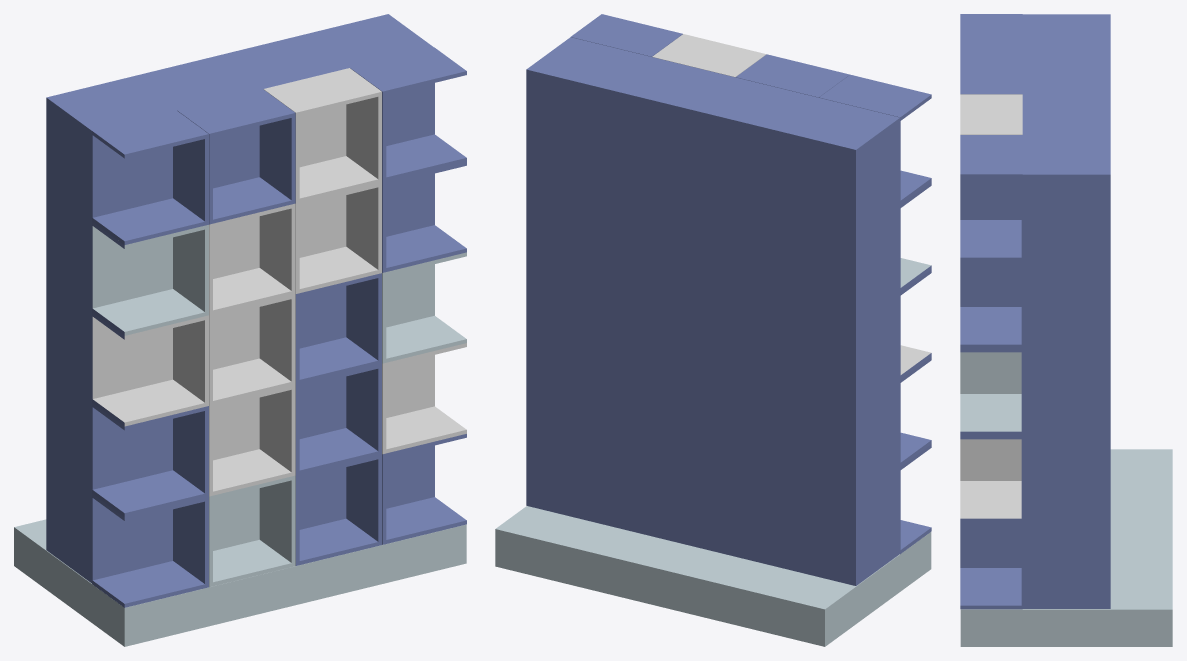
File: 入口书架2.gltf
The picture shows the model from 3 angles, left to right: view 1: azimuth 30°, elevation 25°; view 2: azimuth 150°, elevation 25°; view 3: azimuth 270°, elevation 25°; orthographic projection. The views are drawn at different scales.
Visible parts, largest first — view 1: 柜子-材质.9, 柜子-材质.10, 柜子-材质.11 (×2); view 2: 柜子-材质.9, 柜子-材质.11, 柜子-材质.10; view 3: 柜子-材质.9, 柜子-材质.11 (×2), 柜子-材质.10.
Boxes of the visible parts, x1,y1,x2,y2 form: 柜子-材质.9: (46,14,466,607); 柜子-材质.10: (92,68,466,496); 柜子-材质.11 (×2): (14,225,466,646); 柜子-材质.9: (526,14,931,585); 柜子-材质.11: (495,506,931,646); 柜子-材质.10: (652,34,931,374); 柜子-材质.9: (960,14,1110,609); 柜子-材质.11 (×2): (960,352,1172,646); 柜子-材质.10: (960,94,1022,518).
Bounding box in the file's own units: 5.37 × 7.39 × 3.01.
